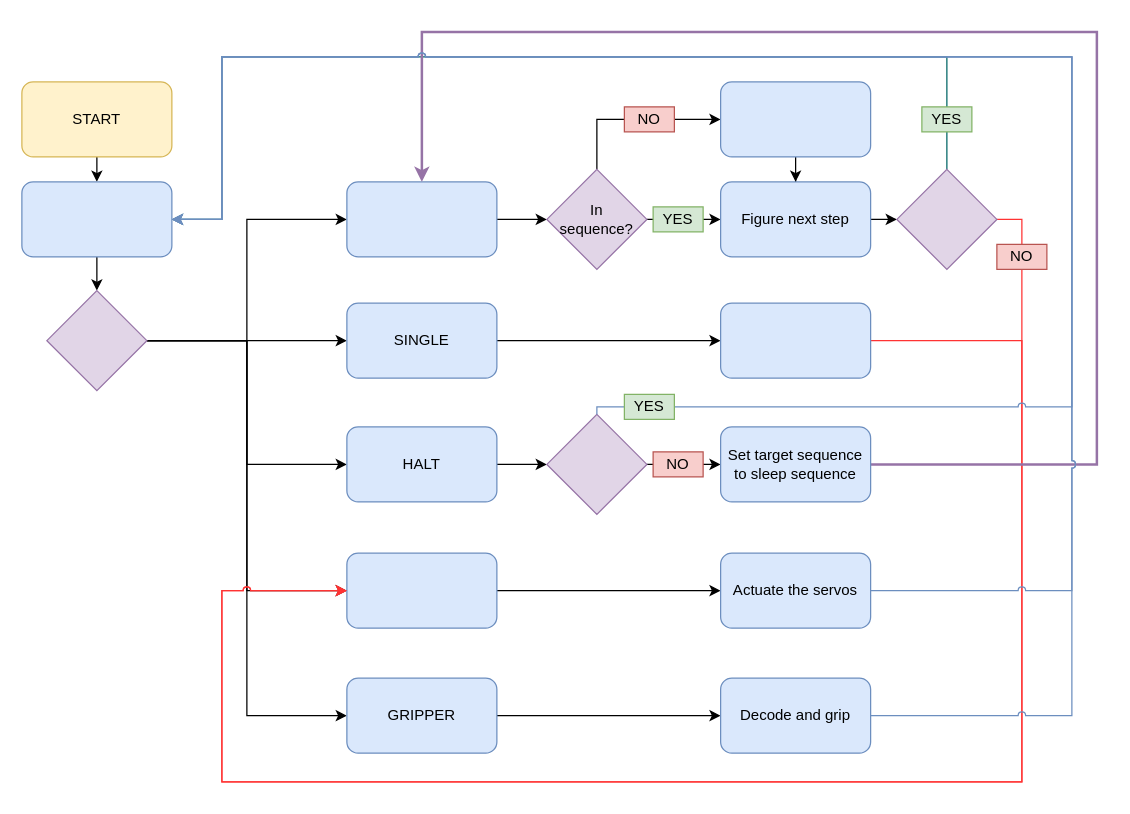
Image size: 1130x814. Some labels were removed from this diagram. The shapes that lost their labels are listed below. From the top down, each one's centre as x and y in pixels, then its label:
the point at 795,119: Decode sequence
the point at 96,219: Parse
the point at 421,219: SEQUENCE
the point at 946,218: Sequence done?
the point at 96,340: Which state?
the point at 795,340: Decode action
the point at 596,463: In sleep position?
the point at 421,590: ACTUATE
